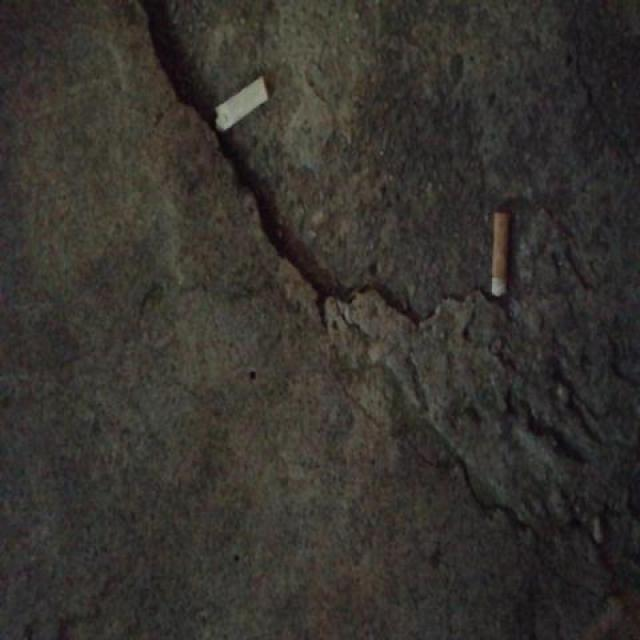non-organic waste: (211, 70, 269, 138), (486, 206, 514, 298)
